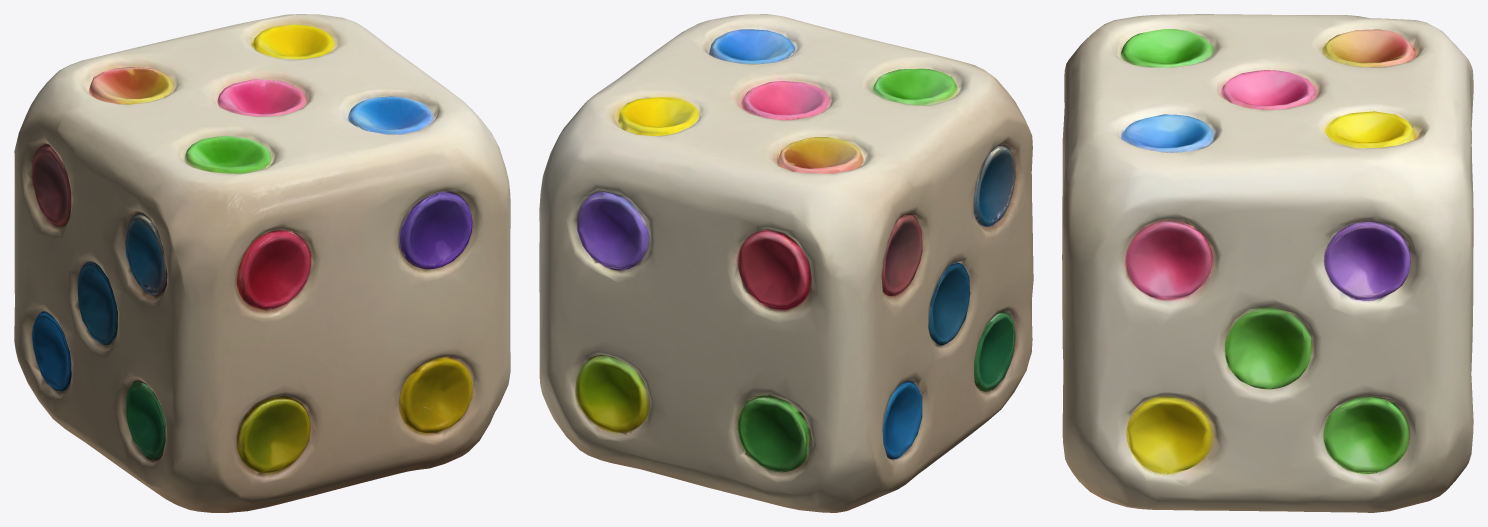
Rendered from toy-dice.glb.
The picture shows the model from 3 angles, left to right: view 1: azimuth 30°, elevation 25°; view 2: azimuth 150°, elevation 25°; view 3: azimuth 270°, elevation 25°; orthographic projection. The views are drawn at different scales.
Parts seen in each view (by area): view 1: tripo_node_a4c788ad-8307-4098-8167-fdd7059042c2; view 2: tripo_node_a4c788ad-8307-4098-8167-fdd7059042c2; view 3: tripo_node_a4c788ad-8307-4098-8167-fdd7059042c2.
Part boxes in pixels (<box>): tripo_node_a4c788ad-8307-4098-8167-fdd7059042c2: <box>14,14,510,512</box>; tripo_node_a4c788ad-8307-4098-8167-fdd7059042c2: <box>539,14,1033,512</box>; tripo_node_a4c788ad-8307-4098-8167-fdd7059042c2: <box>1062,14,1473,512</box>.
Size of the model in its own units: 1 by 0.9503 by 0.9954.
Materials: 1 (1 with a texture image).
